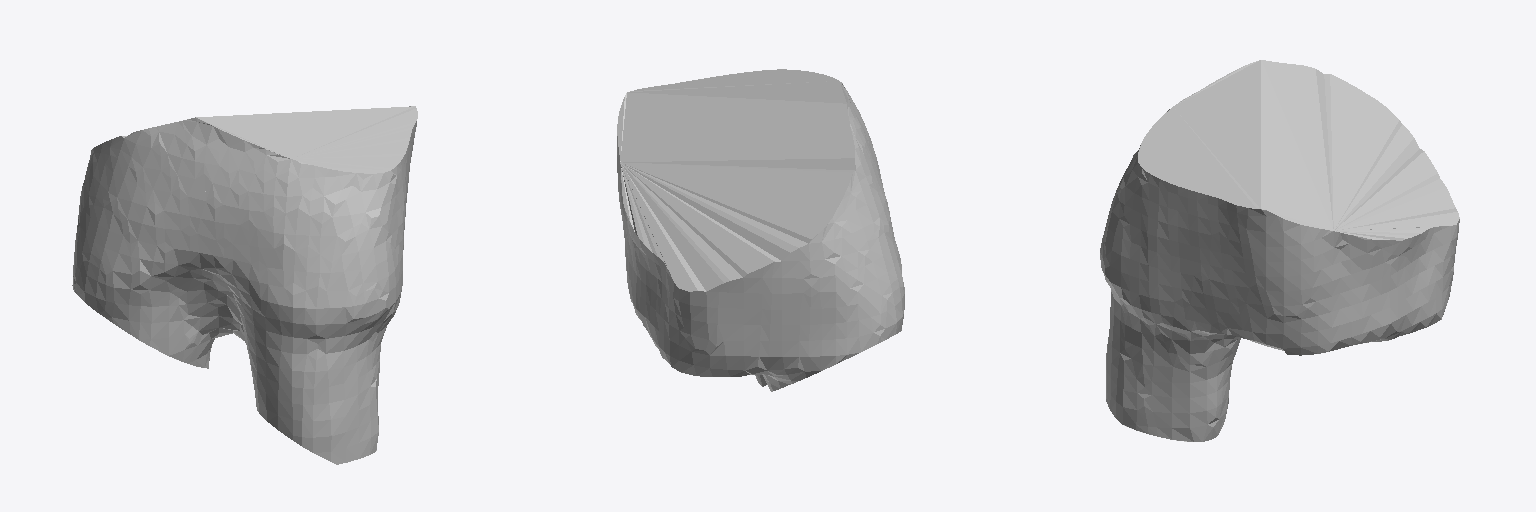
Rendered from low_cell_028.obj.
3 renders of one model, left to right at view 1: azimuth 30°, elevation 25°; view 2: azimuth 150°, elevation 25°; view 3: azimuth 270°, elevation 25°, orthographic.
Parts seen in each view (by area): view 1: low_cell.028_low_cell.027; view 2: low_cell.028_low_cell.027; view 3: low_cell.028_low_cell.027.
Part boxes in pixels (x1,y1,x2,y2): low_cell.028_low_cell.027: (72, 106, 417, 464); low_cell.028_low_cell.027: (617, 69, 904, 391); low_cell.028_low_cell.027: (1100, 60, 1459, 441).
Bounding box in the file's own units: 0.3962 × 0.4089 × 0.4103.